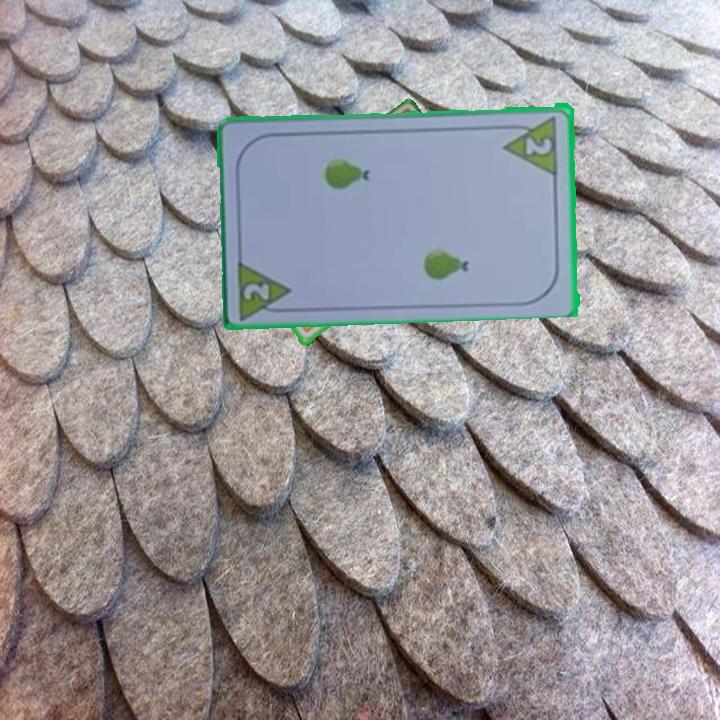2p: (234, 255, 296, 320), (500, 112, 561, 176)
